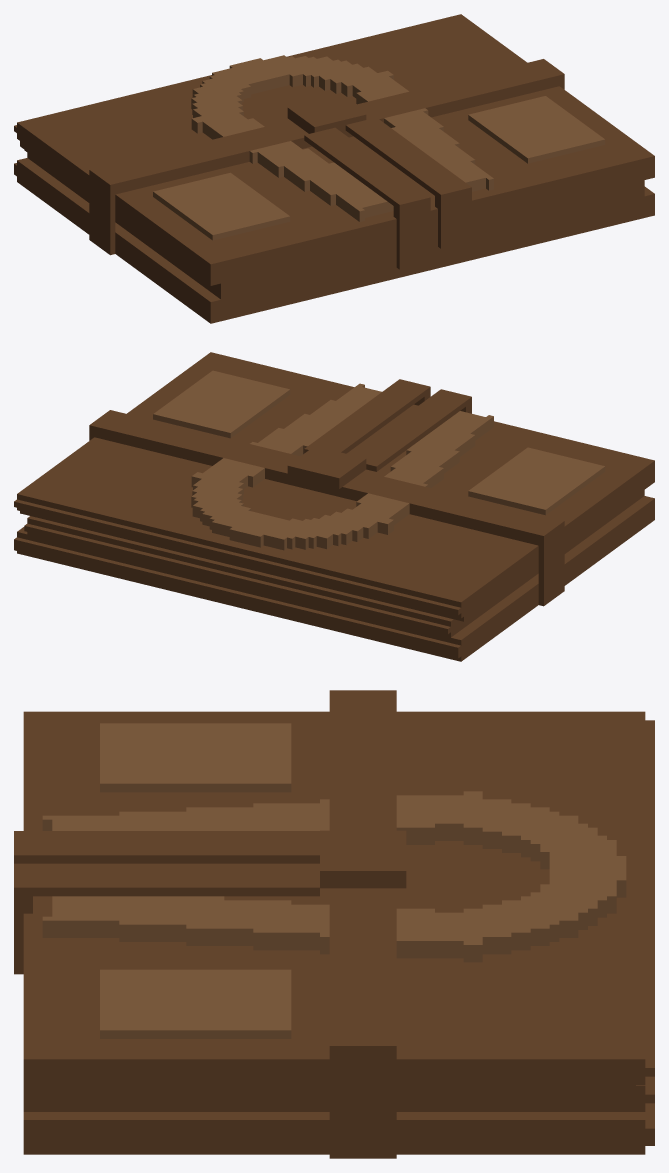
The model's file is robe.glb.
3 renders of one model, top to bottom at view 1: azimuth 30°, elevation 25°; view 2: azimuth 150°, elevation 25°; view 3: azimuth 270°, elevation 25°, orthographic. The views are drawn at different scales.
Parts seen in each view (by area): view 1: robe:compound; view 2: robe:compound; view 3: robe:compound.
Part boxes in pixels (x1,y1,x2,y2): robe:compound: [14, 14, 654, 323]; robe:compound: [14, 352, 654, 661]; robe:compound: [14, 690, 654, 1158].
Bounding box in the file's own units: 0.352 × 0.06 × 0.268.
